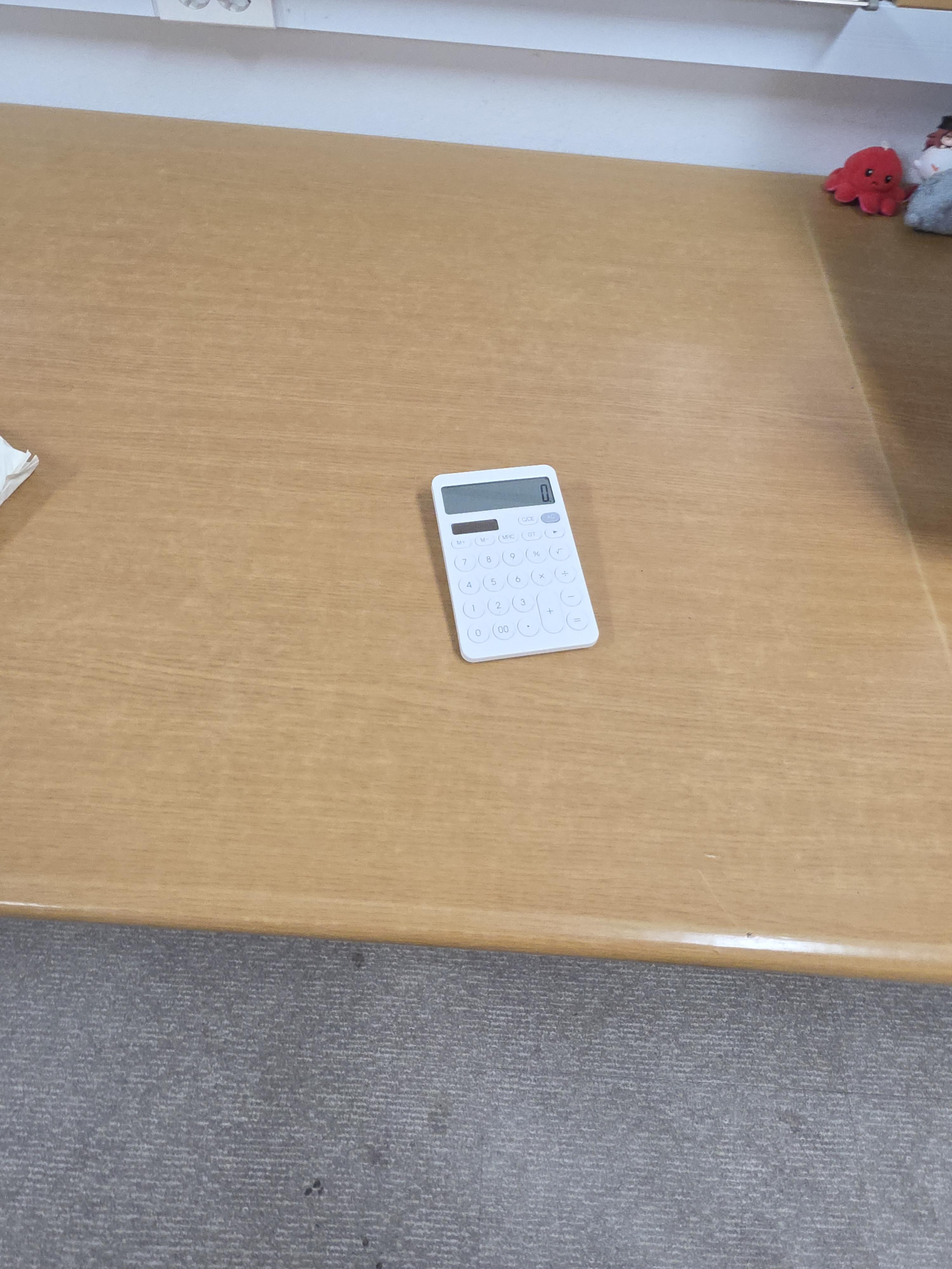calculator: (430, 464, 599, 664)
tissue: (0, 436, 39, 506)
